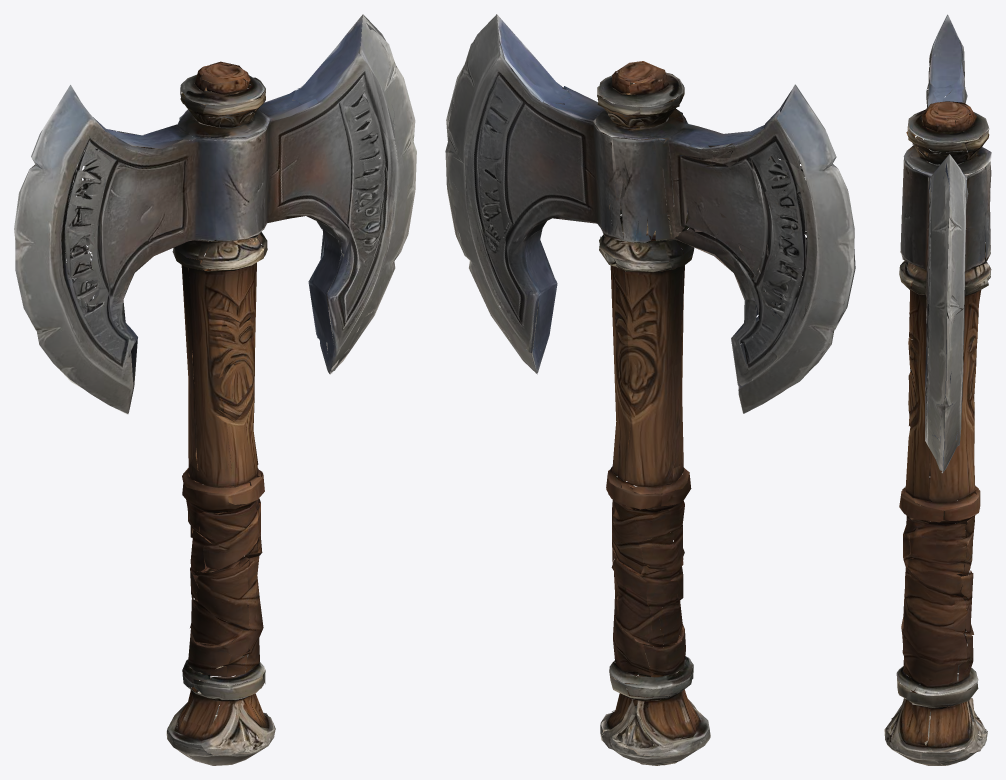
3 renders of one model, left to right at view 1: azimuth 30°, elevation 25°; view 2: azimuth 150°, elevation 25°; view 3: azimuth 270°, elevation 25°, orthographic. The views are drawn at different scales.
Visible parts, largest first — view 1: variant_0; view 2: variant_0; view 3: variant_0.
Part boxes in pixels (x1,y1,x2,y2): variant_0: [14, 14, 416, 765]; variant_0: [445, 14, 855, 765]; variant_0: [884, 14, 991, 765].
Size of the model in its own units: 0.6215 by 1.03 by 0.1488.
Materials: 1 (1 with a texture image).
